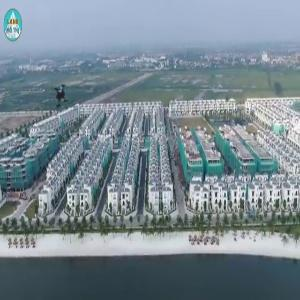drone: (38, 73, 85, 120)
